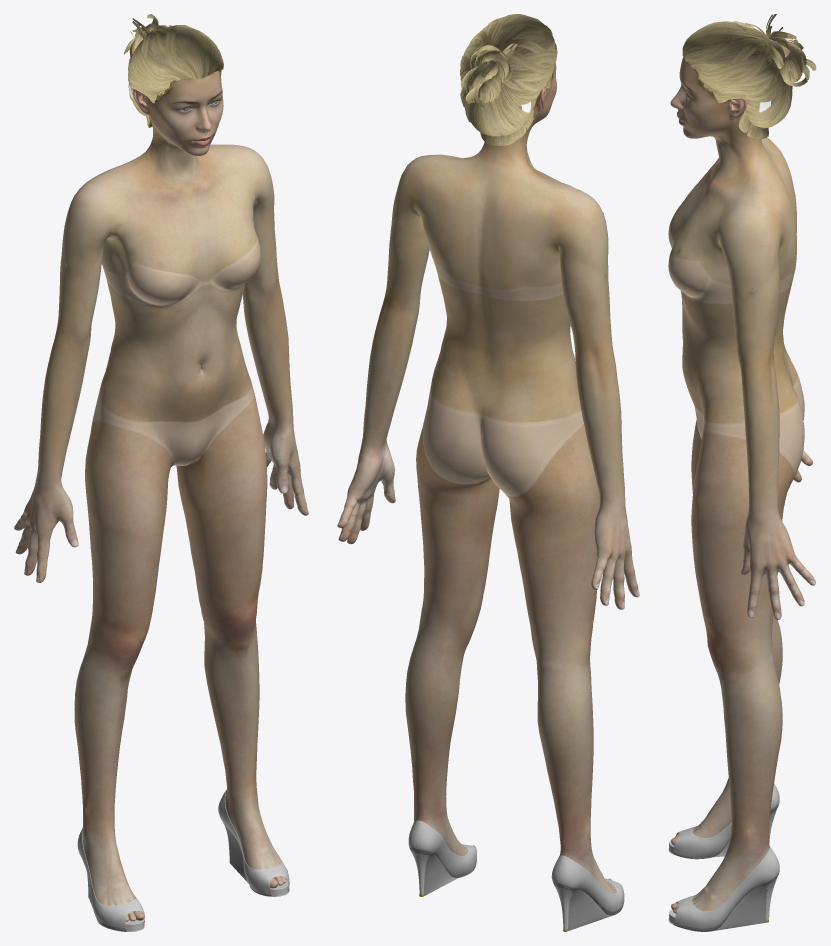
The model's file is female.fbx.
3 views of the same model, side by side, from view 1: azimuth 30°, elevation 25°; view 2: azimuth 150°, elevation 25°; view 3: azimuth 270°, elevation 25° (orthographic). The views are drawn at different scales.
Visible parts, largest first — view 1: female:Mesh; view 2: female:Mesh; view 3: female:Mesh.
Part boxes in pixels (<box>): female:Mesh: <box>14,14,308,931</box>; female:Mesh: <box>337,14,639,931</box>; female:Mesh: <box>668,14,816,931</box>.
Size of the model in its own units: 23.99 by 72.43 by 11.27.
